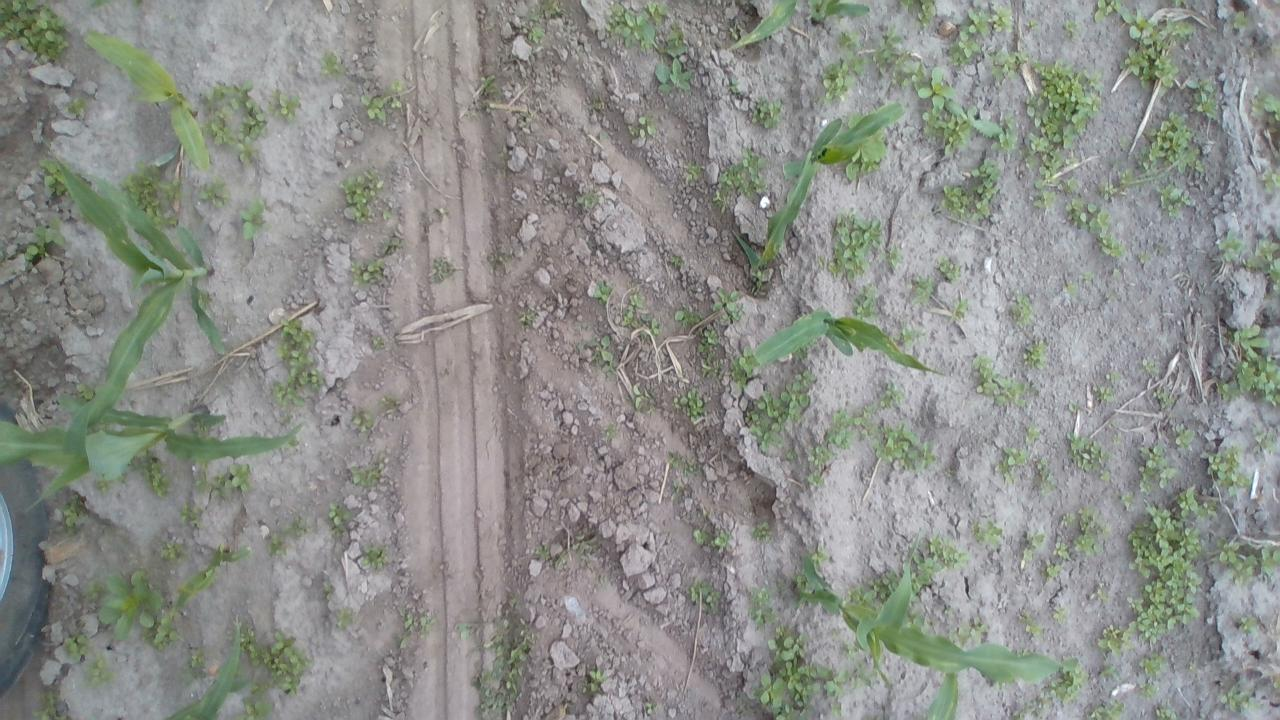Maize: (24, 152, 230, 515), (795, 535, 1080, 684), (731, 101, 904, 276), (2, 392, 304, 477), (83, 33, 211, 167), (749, 307, 942, 376), (161, 613, 241, 720), (177, 542, 247, 601), (722, 0, 796, 42), (928, 670, 962, 719), (810, 0, 870, 25)
Weeds: (1122, 483, 1217, 655), (1024, 60, 1102, 209), (754, 621, 869, 720), (451, 593, 533, 720), (806, 381, 902, 488), (912, 68, 1016, 153), (200, 78, 300, 166), (604, 1, 696, 92), (742, 369, 814, 458), (1118, 7, 1192, 93), (1216, 321, 1280, 410), (814, 212, 881, 284), (272, 314, 322, 406), (98, 564, 159, 639), (0, 0, 69, 65), (240, 631, 306, 698), (936, 156, 1002, 221), (1140, 113, 1206, 175), (1058, 202, 1126, 261), (120, 164, 181, 224), (708, 147, 765, 210), (872, 22, 924, 88), (873, 422, 934, 478), (1217, 537, 1280, 584), (913, 534, 967, 588), (970, 356, 1026, 406), (342, 167, 386, 222), (1245, 232, 1280, 299), (950, 3, 986, 68), (1062, 430, 1108, 480), (194, 461, 252, 498), (1202, 444, 1248, 488), (520, 0, 564, 45), (820, 56, 864, 100), (23, 218, 66, 263), (1138, 445, 1174, 498), (1072, 507, 1110, 555), (395, 607, 437, 650), (568, 334, 608, 376), (268, 516, 308, 556), (695, 330, 725, 380), (1046, 670, 1084, 708), (1187, 73, 1219, 118), (140, 454, 172, 498), (709, 286, 744, 326), (994, 444, 1024, 489), (326, 500, 363, 534), (348, 457, 388, 488), (964, 515, 1004, 546), (1136, 654, 1164, 698), (1157, 185, 1194, 218), (1096, 624, 1134, 656), (746, 96, 783, 128), (238, 197, 268, 236), (744, 584, 772, 624), (349, 256, 386, 286), (1006, 292, 1038, 326), (37, 158, 66, 195), (149, 615, 180, 649), (1022, 338, 1052, 373), (894, 316, 928, 346), (728, 346, 758, 380), (1034, 450, 1055, 498), (1249, 95, 1280, 127), (376, 226, 407, 258), (183, 645, 210, 681), (618, 290, 641, 332), (687, 579, 718, 610), (85, 656, 117, 686), (198, 176, 230, 206), (32, 692, 66, 720), (58, 496, 86, 530), (671, 390, 704, 418), (1219, 226, 1243, 264), (1102, 167, 1132, 197), (358, 93, 389, 122), (992, 50, 1024, 78), (666, 448, 699, 474), (357, 541, 391, 566), (896, 0, 936, 21), (328, 604, 359, 631), (1253, 424, 1278, 457), (903, 614, 940, 636), (580, 665, 608, 694), (1086, 701, 1128, 720), (1020, 532, 1043, 566), (428, 258, 454, 288), (1218, 686, 1250, 710), (854, 290, 879, 320), (869, 571, 896, 597), (1255, 165, 1279, 194), (1092, 0, 1122, 23), (235, 704, 278, 720), (61, 631, 87, 656), (1172, 422, 1196, 449), (534, 536, 558, 562), (681, 161, 704, 188), (160, 540, 191, 560), (631, 382, 651, 412), (319, 51, 343, 76), (910, 276, 930, 306), (1153, 385, 1177, 410), (834, 27, 861, 49), (572, 531, 599, 553), (946, 300, 970, 324), (1018, 611, 1041, 636), (934, 260, 961, 281), (956, 618, 984, 638), (989, 4, 1010, 30), (180, 500, 202, 524), (1153, 698, 1177, 720), (672, 304, 698, 324), (1118, 491, 1138, 516), (628, 116, 652, 136), (884, 244, 902, 270), (66, 96, 92, 114), (593, 279, 612, 303), (1022, 425, 1046, 444), (393, 79, 408, 109), (1090, 386, 1118, 402), (788, 574, 808, 596), (1228, 9, 1248, 31), (85, 578, 106, 598), (576, 188, 597, 208), (1062, 21, 1086, 38), (849, 587, 874, 603), (662, 248, 682, 268), (1051, 540, 1071, 559), (1142, 356, 1160, 377), (839, 640, 856, 662), (1040, 564, 1062, 581), (93, 478, 112, 497), (352, 413, 371, 432), (1089, 580, 1107, 600), (1240, 613, 1260, 631), (713, 530, 731, 550), (1130, 251, 1152, 267), (378, 389, 394, 410), (1098, 664, 1120, 679), (808, 546, 826, 564), (77, 384, 97, 400), (320, 580, 335, 601), (646, 316, 660, 338), (480, 75, 496, 94), (585, 93, 603, 108), (670, 478, 681, 502), (1062, 278, 1078, 294), (1058, 512, 1074, 528), (606, 422, 620, 440), (1022, 18, 1039, 32), (728, 25, 742, 41), (752, 523, 769, 536), (1052, 608, 1070, 620), (1105, 370, 1122, 382), (520, 310, 534, 324), (694, 530, 706, 544), (730, 76, 739, 94), (1068, 400, 1078, 412), (646, 702, 654, 715), (374, 336, 384, 346), (1081, 270, 1090, 281), (88, 2, 108, 6), (1188, 660, 1195, 670)
